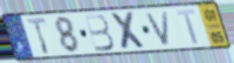8: (54, 14, 81, 55)
B: (82, 13, 116, 53)
T: (25, 16, 52, 56), (174, 8, 201, 46)
V: (144, 10, 172, 47)
X: (108, 11, 150, 51)
